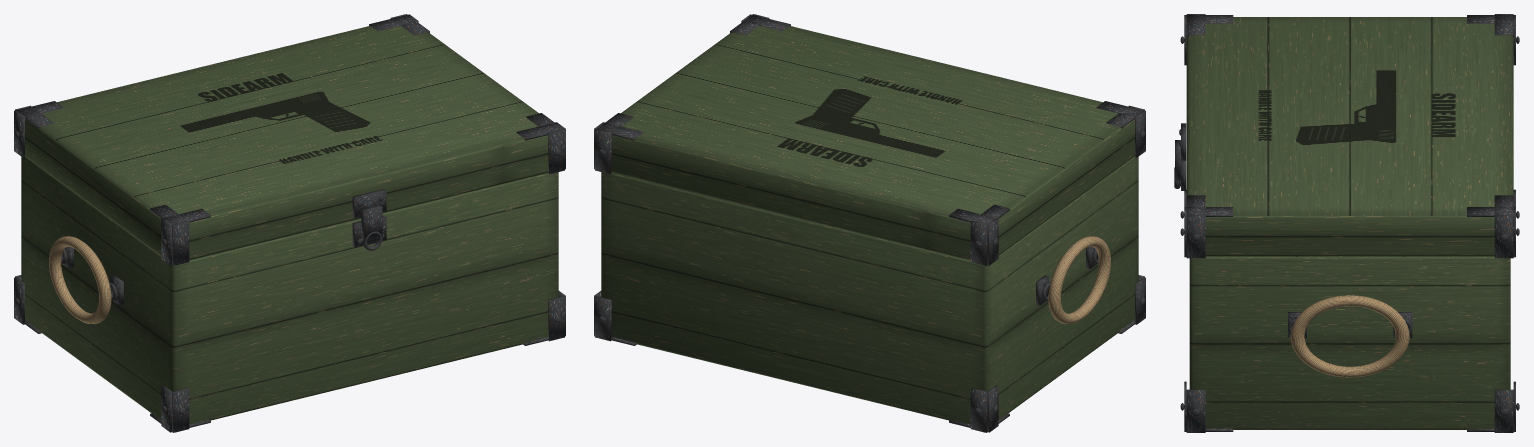
Rendered from pistol_crate.obj.
The picture shows the model from 3 angles, left to right: view 1: azimuth 30°, elevation 25°; view 2: azimuth 150°, elevation 25°; view 3: azimuth 270°, elevation 25°; orthographic projection. The views are drawn at different scales.
Parts seen in each view (by area): view 1: Pistol_Crate; view 2: Pistol_Crate; view 3: Pistol_Crate.
Boxes of the visible parts, x1,y1,x2,y2 form: Pistol_Crate: (14,14,565,432); Pistol_Crate: (594,14,1145,432); Pistol_Crate: (1174,14,1519,432).
Size of the model in its own units: 1.78 by 0.822 by 1.18.
4 materials, 4 textured.
